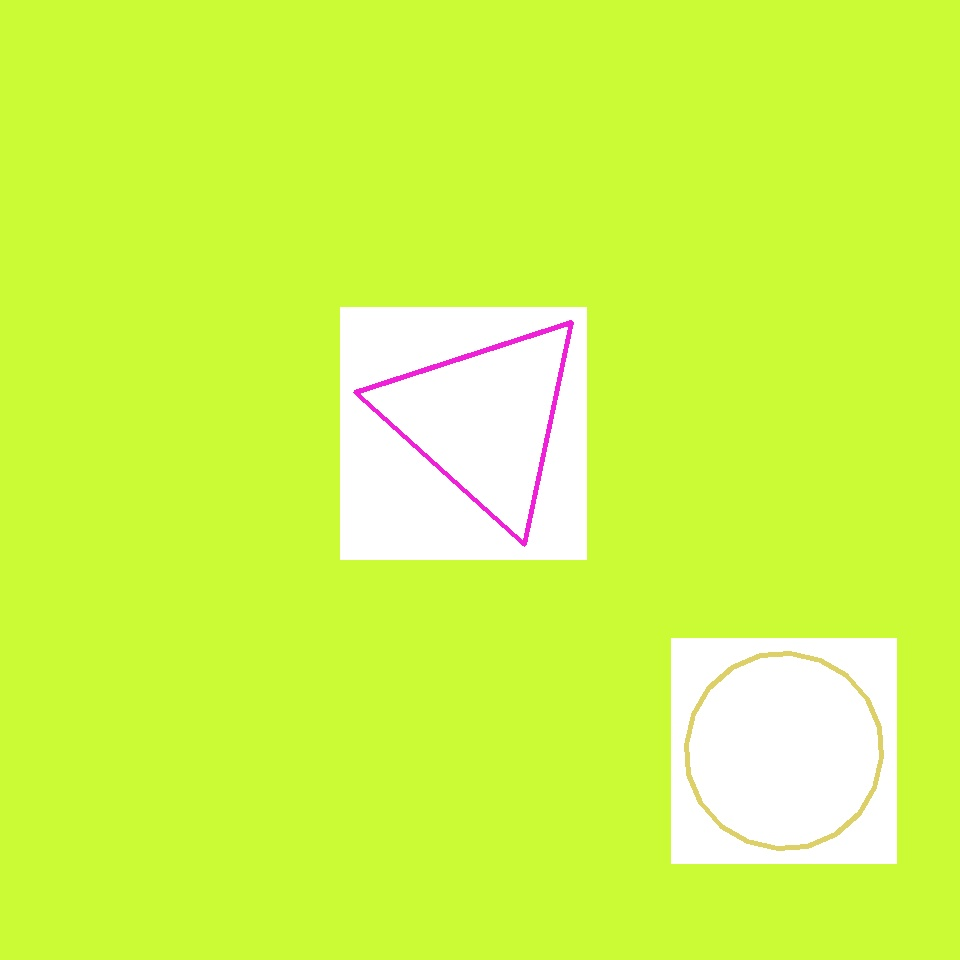circle: (376, 309, 592, 531)
square: (167, 66, 456, 354), (255, 443, 408, 596), (764, 96, 908, 239), (1, 734, 100, 832)
triangle: (422, 496, 774, 846), (16, 167, 220, 370), (686, 654, 882, 848)
